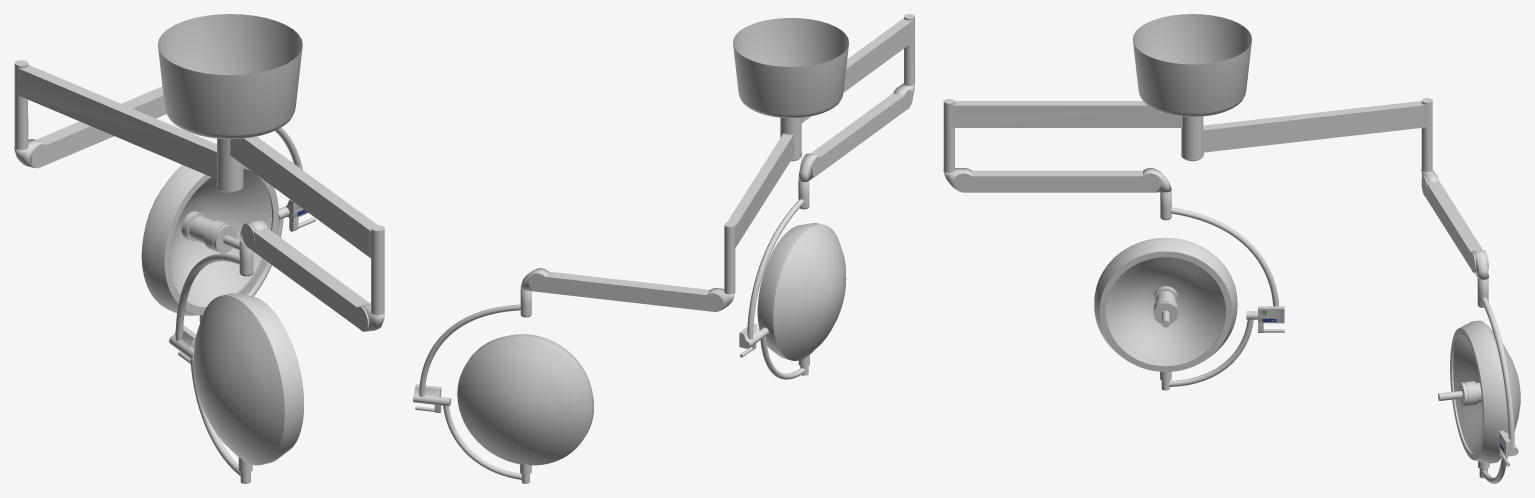
File: lamp low full set.FBX
The picture shows the model from 3 angles, left to right: view 1: azimuth 30°, elevation 25°; view 2: azimuth 150°, elevation 25°; view 3: azimuth 270°, elevation 25°; orthographic projection. The views are drawn at different scales.
Parts seen in each view (by area): view 1: top low, lamp low, lamp low001, lever 1 low001, lever 1 low, lever 2 low, lever 2 low001, lever 3 low, lever 4 low, lever 3 low001, lever 4 low001, glass001; view 2: lamp low001, top low, lamp low, lever 2 low001, lever 1 low001, lever 1 low, lever 2 low, lever 3 low001, lever 3 low, lever 4 low001, lever 4 low; view 3: lamp low, top low, lever 1 low001, lamp low001, lever 1 low, lever 2 low, lever 2 low001, lever 3 low, lever 3 low001, lever 4 low.
Part boxes in pixels (x1=…): top low: x1=157, y1=14, x2=302, y2=192; lamp low: x1=193, y1=293, x2=303, y2=465; lamp low001: x1=141, y1=165, x2=278, y2=315; lever 1 low001: x1=14, y1=60, x2=243, y2=187; lever 1 low: x1=217, y1=136, x2=384, y2=315; lever 2 low: x1=242, y1=220, x2=369, y2=331; lever 2 low001: x1=28, y1=86, x2=166, y2=168; lever 3 low: x1=169, y1=241, x2=253, y2=364; lever 4 low: x1=185, y1=347, x2=252, y2=483; lever 3 low001: x1=275, y1=127, x2=315, y2=231; lever 4 low001: x1=199, y1=206, x2=289, y2=322; glass001: x1=189, y1=216, x2=213, y2=243; lamp low001: x1=457, y1=334, x2=593, y2=465; top low: x1=733, y1=18, x2=848, y2=161; lamp low: x1=757, y1=223, x2=846, y2=360; lever 2 low001: x1=528, y1=268, x2=724, y2=311; lever 1 low001: x1=724, y1=130, x2=801, y2=294; lever 1 low: x1=780, y1=14, x2=914, y2=131; lever 2 low: x1=800, y1=87, x2=913, y2=176; lever 3 low001: x1=413, y1=289, x2=531, y2=412; lever 3 low: x1=739, y1=180, x2=809, y2=357; lever 4 low001: x1=438, y1=397, x2=531, y2=483; lever 4 low: x1=759, y1=327, x2=809, y2=379; lamp low: x1=1094, y1=237, x2=1237, y2=371; top low: x1=1132, y1=14, x2=1251, y2=161; lever 1 low001: x1=1181, y1=98, x2=1432, y2=171; lamp low001: x1=1438, y1=320, x2=1520, y2=463; lever 1 low: x1=943, y1=99, x2=1203, y2=172; lever 2 low: x1=953, y1=168, x2=1161, y2=192; lever 2 low001: x1=1421, y1=174, x2=1488, y2=272; lever 3 low: x1=1160, y1=190, x2=1284, y2=332; lever 3 low001: x1=1477, y1=278, x2=1518, y2=466; lever 4 low: x1=1160, y1=311, x2=1257, y2=390.
Size of the model in its own units: 139 by 174 by 242.
Materials: 1 (1 with a texture image).
